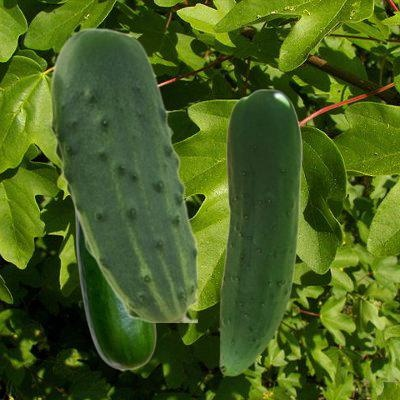cucumber: (50, 27, 196, 321), (219, 89, 301, 375), (73, 211, 155, 369)
